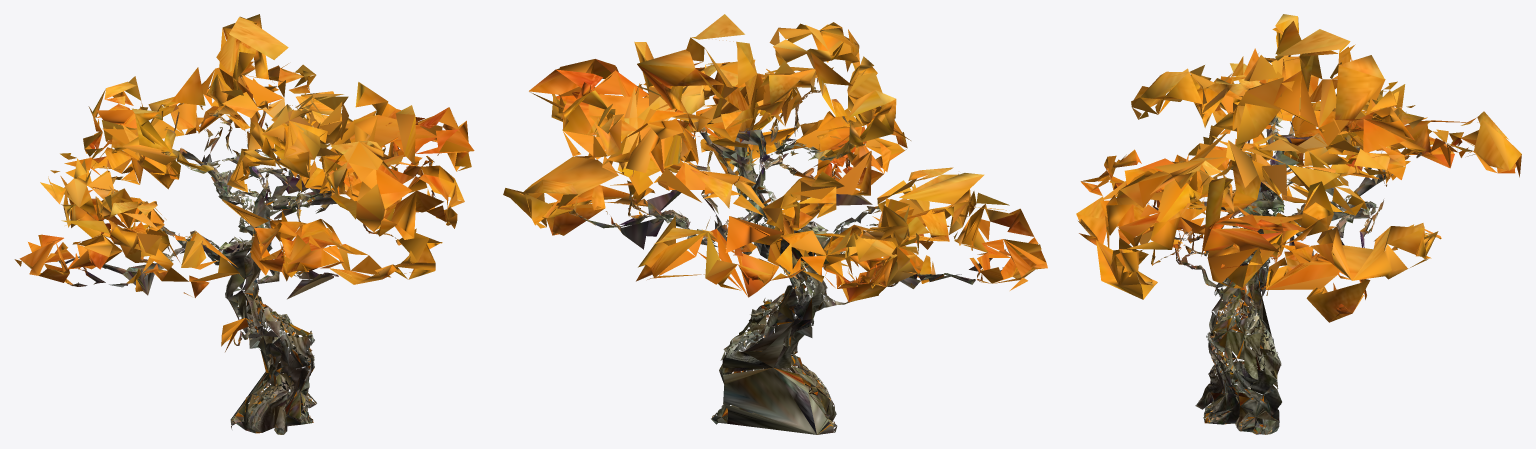
Rendered from Ember_Tree.glb.
The picture shows the model from 3 angles, left to right: view 1: azimuth 30°, elevation 25°; view 2: azimuth 150°, elevation 25°; view 3: azimuth 270°, elevation 25°; orthographic projection. The views are drawn at different scales.
Parts seen in each view (by area): view 1: Ember_Tree_lite; view 2: Ember_Tree_lite; view 3: Ember_Tree_lite.
Boxes of the visible parts, x1,y1,x2,y2 form: Ember_Tree_lite: (14,14,474,434); Ember_Tree_lite: (503,14,1047,434); Ember_Tree_lite: (1076,14,1521,434).
Bounding box in the file's own units: 30.14 × 23.94 × 25.42.
1 material, 1 textured.
